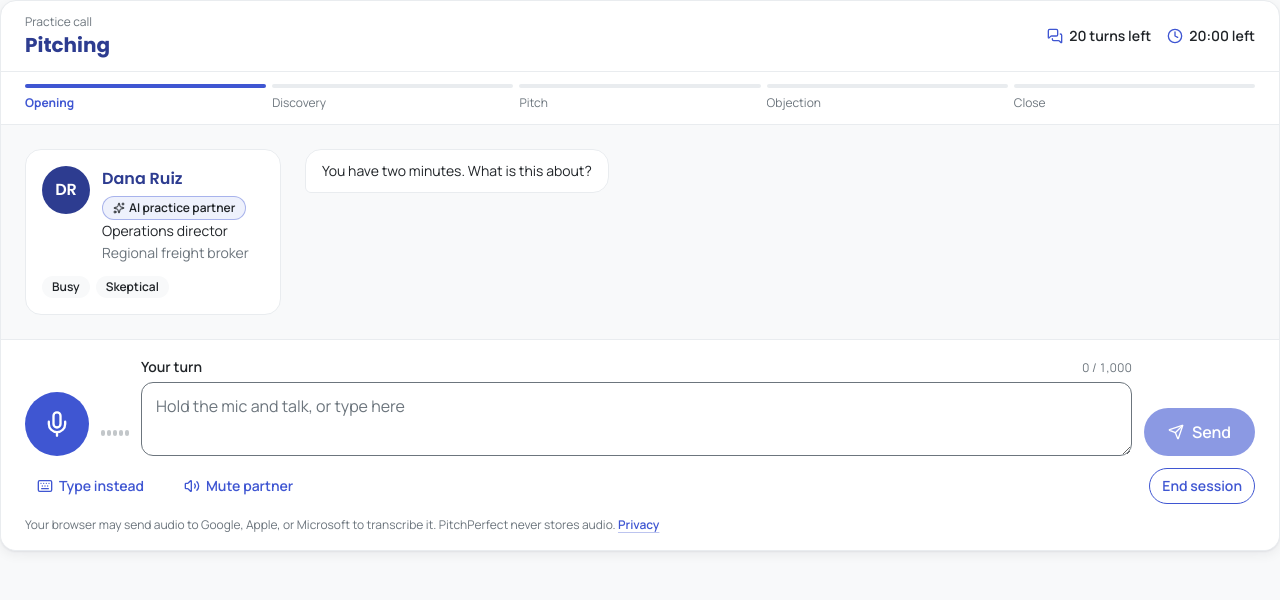
Test: PracticeRoom › doesn't count a turn the api refused before sending anything
In the text box labelled "Your turn": (636, 419) [141,382,1132,456], type "Hello there."
Then press Enter
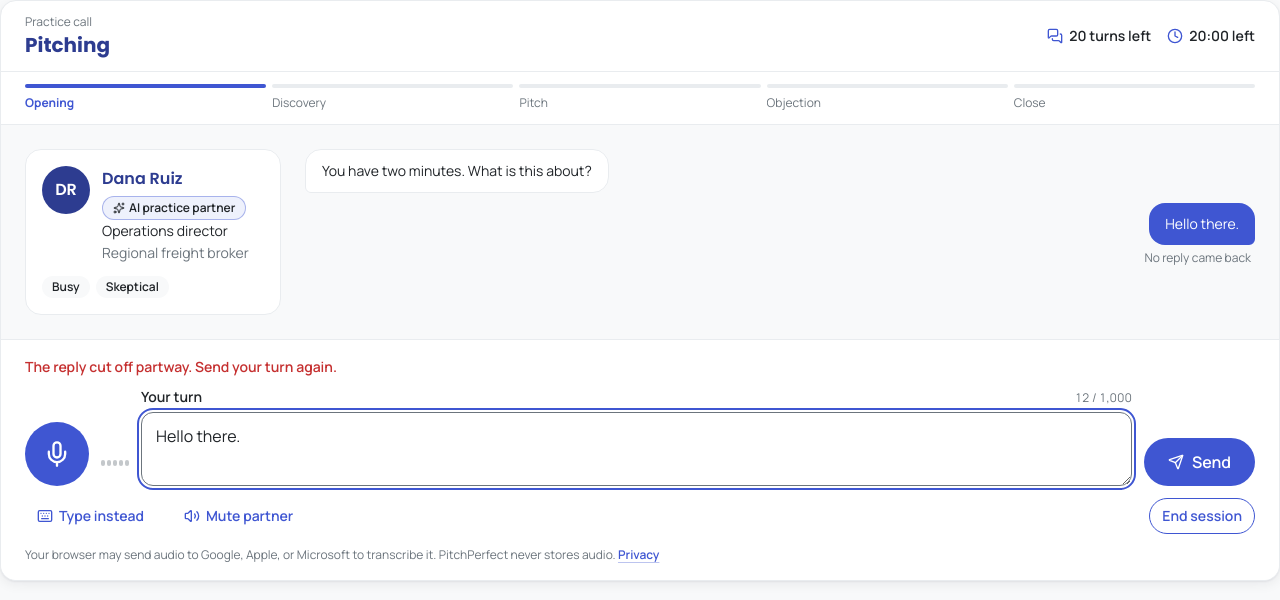
Expected: the text "20 turns left" is shown, [1047,25,1151,47]
Expected: the message "The reply cut off partway. Send your turn again." is shown, [25,357,337,376]
